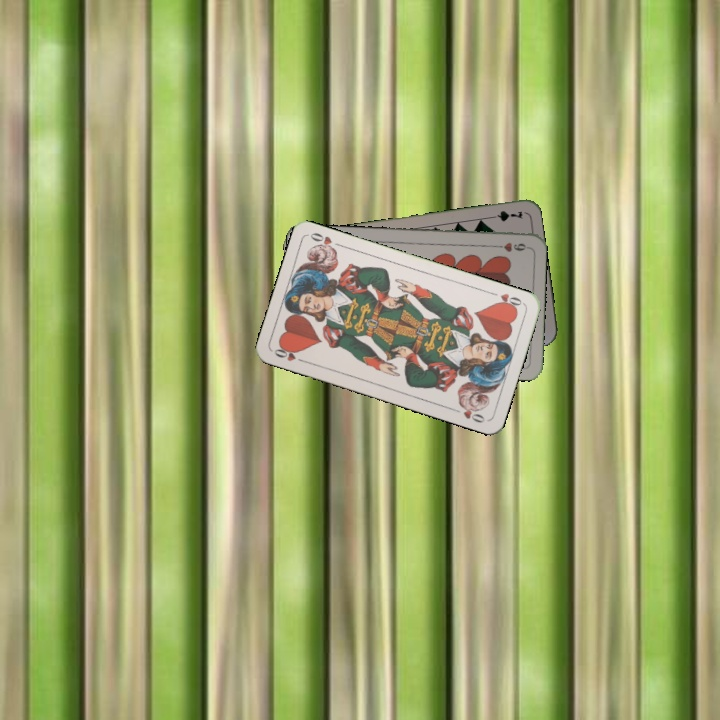G7: (484, 207, 525, 224)
H9: (490, 238, 530, 254)
HO: (486, 288, 526, 312), (270, 342, 309, 366)
